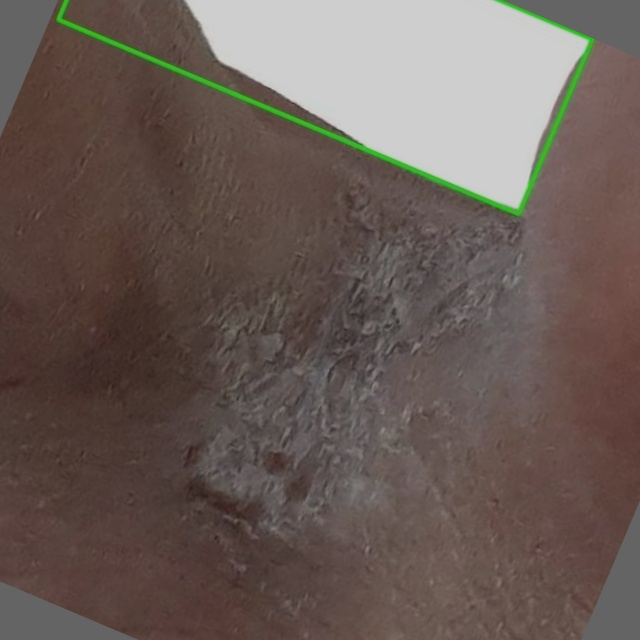Contact Dermatitis: (58, 0, 592, 214)
